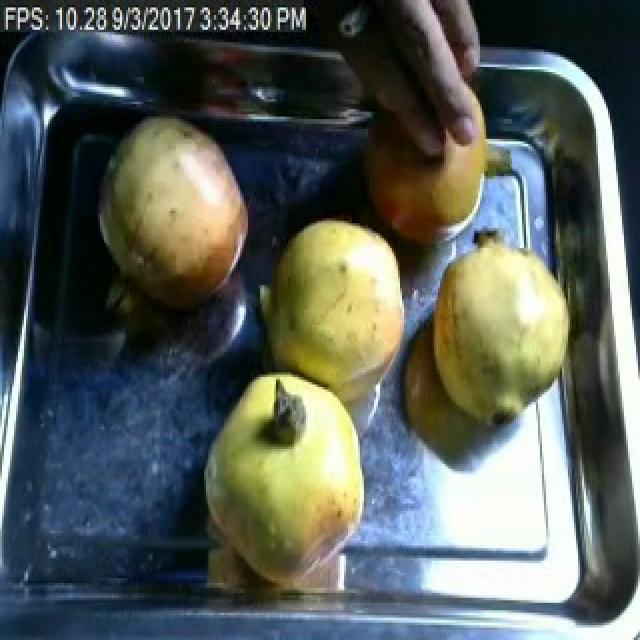fruit: (190, 355, 376, 595), (94, 106, 256, 322), (424, 220, 576, 437), (354, 80, 518, 256), (256, 213, 414, 392)
